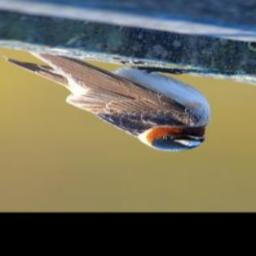Swallow: (3, 48, 213, 152)
